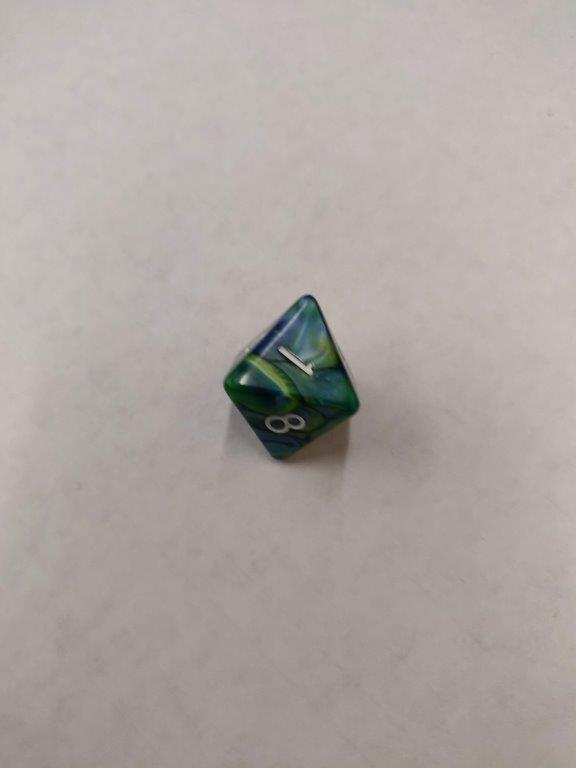d8-1: (222, 295, 360, 461)
